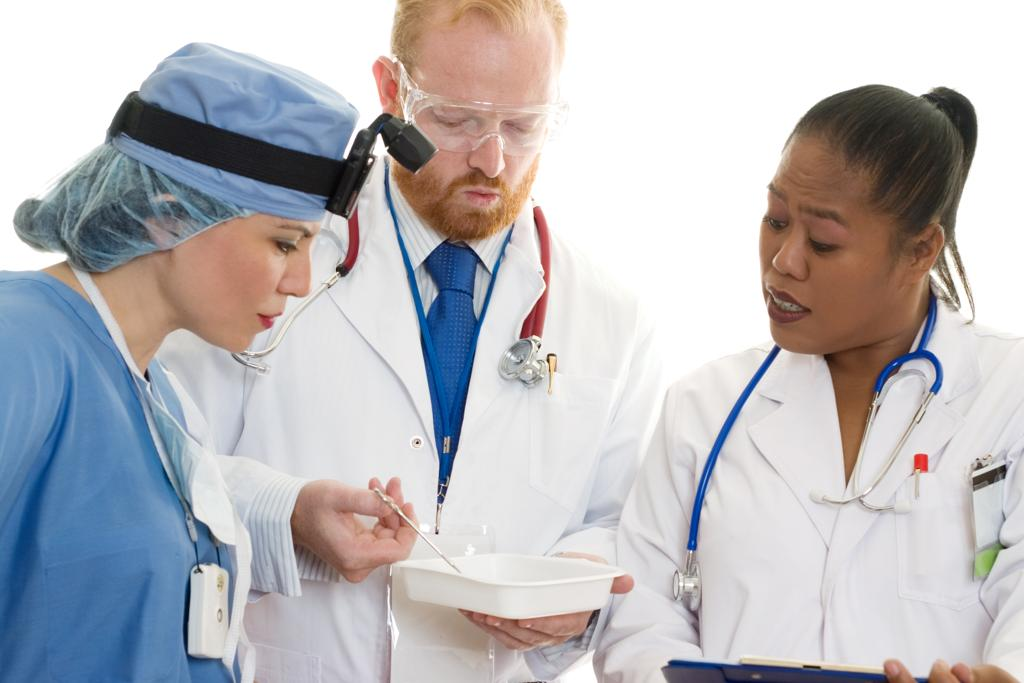face: (758, 124, 906, 354), (402, 26, 548, 238), (190, 158, 316, 350)
